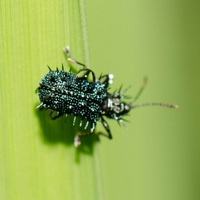insect: (36, 46, 178, 147)
